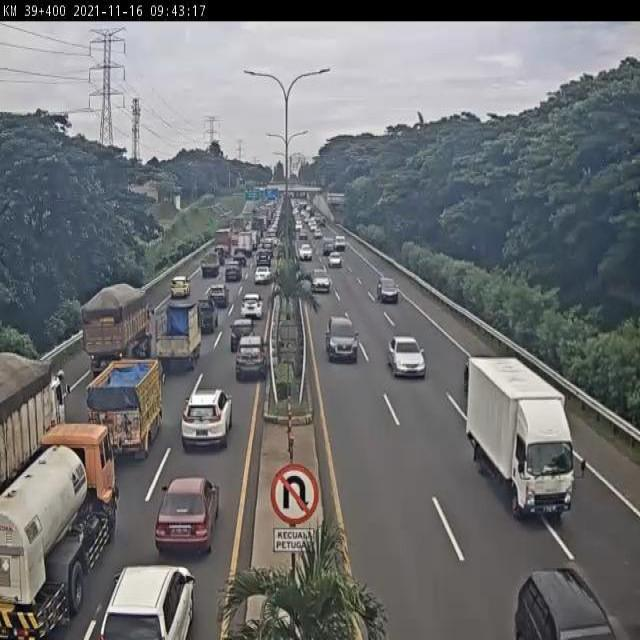car: (97, 561, 196, 640), (154, 476, 222, 552), (179, 382, 232, 454), (387, 334, 426, 382), (325, 313, 360, 364), (233, 332, 269, 377), (228, 316, 256, 355), (196, 294, 220, 330), (376, 275, 400, 305), (239, 291, 262, 320), (310, 265, 331, 296), (208, 281, 228, 311), (223, 260, 244, 284), (170, 272, 188, 299), (253, 264, 272, 285)
small truck: (465, 357, 588, 520), (86, 354, 166, 470), (153, 300, 201, 371), (200, 251, 220, 281)
truck-m-: (0, 421, 117, 640), (0, 353, 64, 495), (84, 285, 153, 376)
